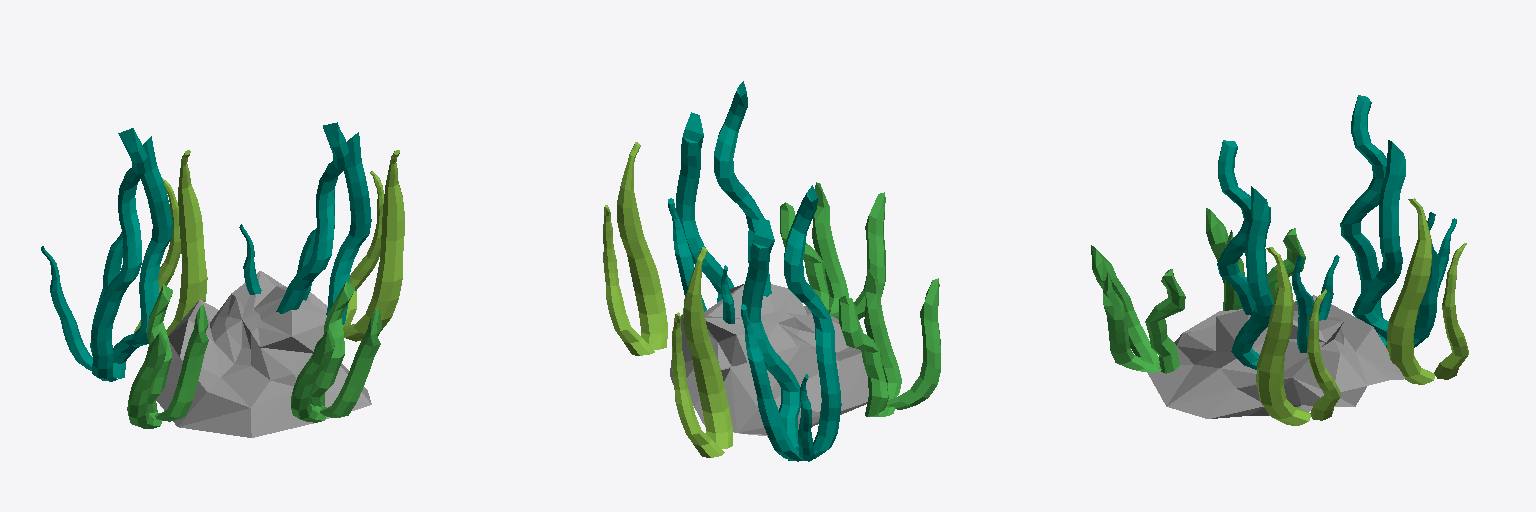
The model's file is seaweed.obj.
The picture shows the model from 3 angles: view 1: azimuth 30°, elevation 25°; view 2: azimuth 150°, elevation 25°; view 3: azimuth 270°, elevation 25°; orthographic projection.
Parts seen in each view (by area): view 1: model, model.001_model.004, model.002_model.005, model.003_model.006; view 2: model, model.003_model.006, model.002_model.005, model.001_model.004; view 3: model, model.001_model.004, model.003_model.006, model.002_model.005.
Part boxes in pixels (x1,y1,x2,y2): model: (41,122,371,381); model.001_model.004: (156,271,371,437); model.002_model.005: (127,281,381,428); model.003_model.006: (134,150,404,341); model: (668,81,841,461); model.003_model.006: (603,142,732,457); model.002_model.005: (780,182,940,416); model.001_model.004: (670,284,868,436); model: (1217,95,1456,369); model.001_model.004: (1147,295,1404,418); model.003_model.006: (1256,198,1468,425); model.002_model.005: (1091,208,1305,373).
Bounding box in the file's own units: 4.02 × 3.64 × 4.4.